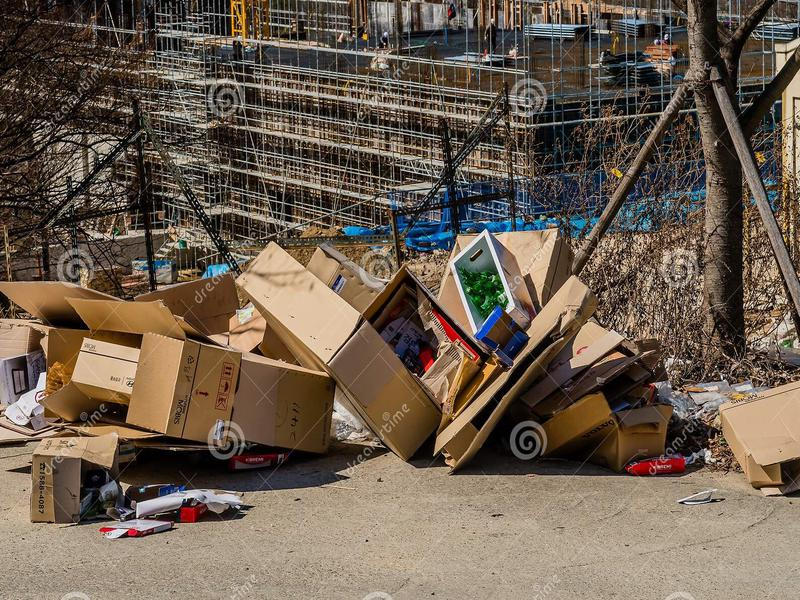cardboard: (228, 235, 447, 469), (428, 275, 604, 476), (37, 290, 235, 443), (430, 219, 572, 340), (710, 363, 800, 500), (16, 430, 127, 528), (572, 392, 680, 473)
